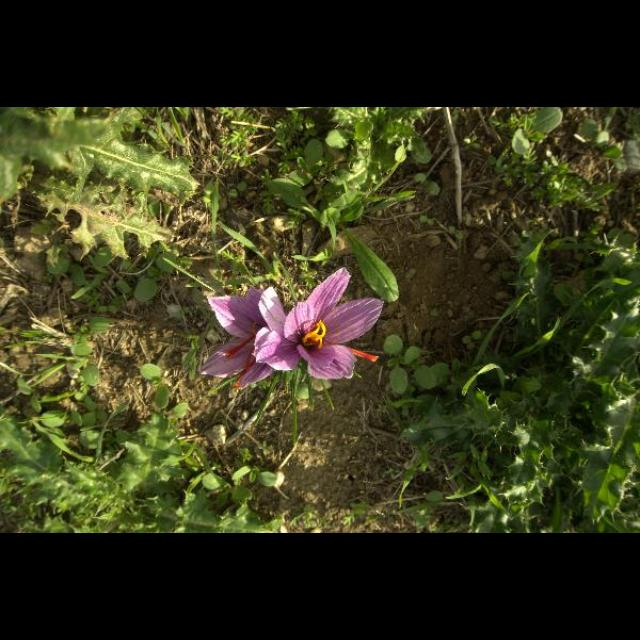overlap: (198, 267, 384, 391)
